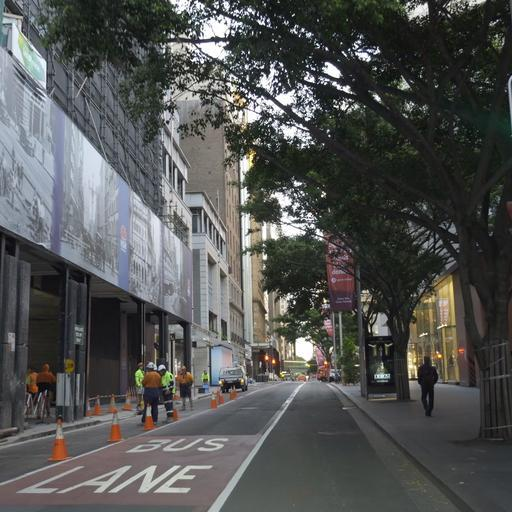Street light: (229, 89, 369, 398)
